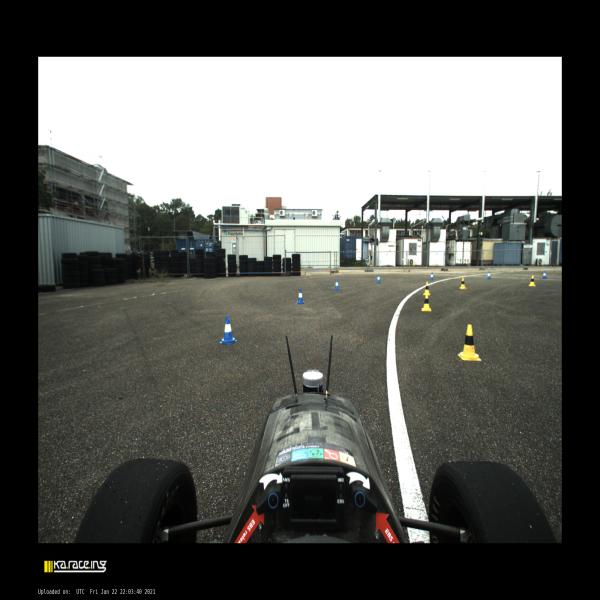blue_cone: (219, 316, 237, 344), (296, 288, 305, 304), (334, 279, 340, 290), (429, 272, 434, 281), (376, 274, 381, 283), (542, 271, 547, 279), (486, 271, 491, 279)
yellow_cone: (458, 324, 482, 361), (422, 294, 431, 311), (528, 275, 536, 286), (424, 282, 430, 295), (459, 278, 466, 289)
